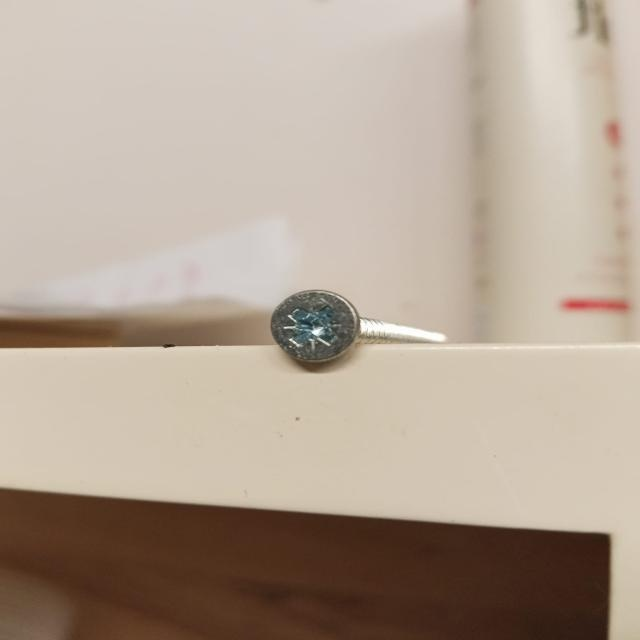pozidriv: (270, 288, 360, 363)
